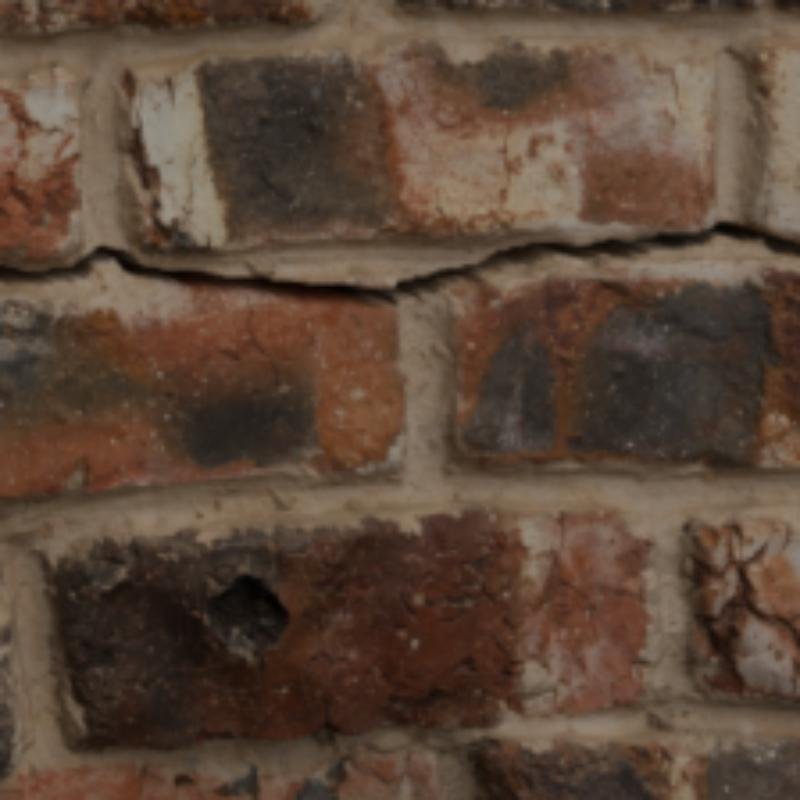crack: (0, 246, 479, 304), (479, 221, 796, 264)
